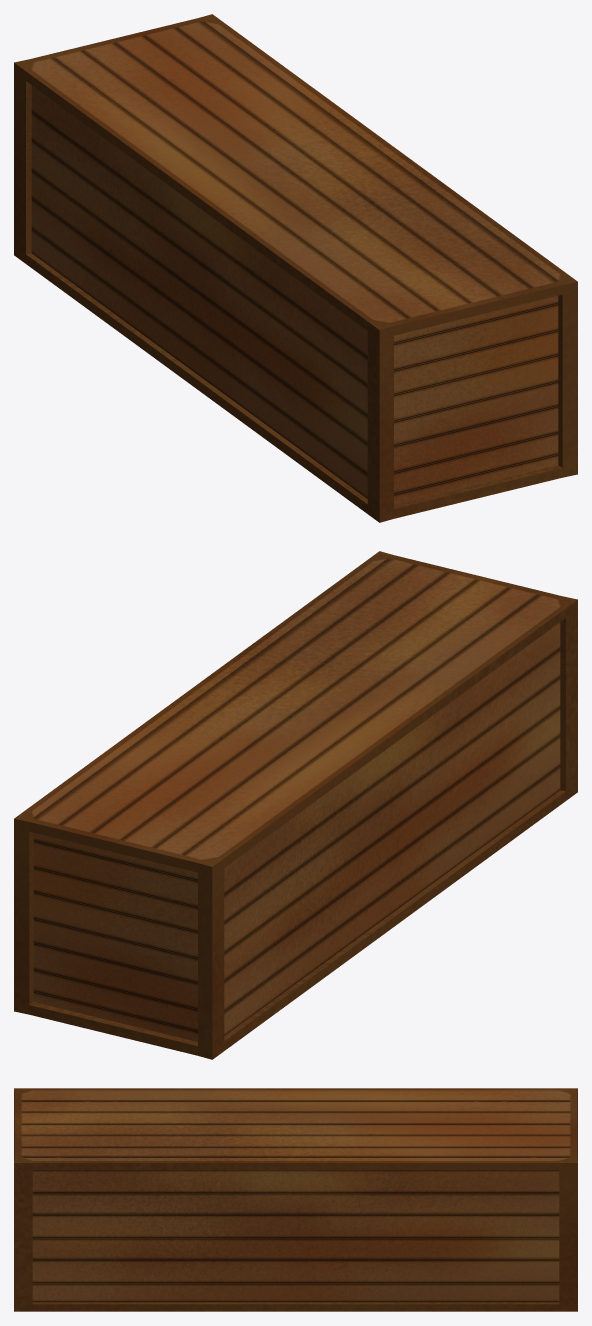
File: Shipping Container.fbx
3 views of the same model, one above another, from view 1: azimuth 30°, elevation 25°; view 2: azimuth 150°, elevation 25°; view 3: azimuth 270°, elevation 25° (orthographic). The views are drawn at different scales.
Parts seen in each view (by area): view 1: Door_Door_Door_Door_Door_Door_Door_Door_pCube10; view 2: Door_Door_Door_Door_Door_Door_Door_Door_pCube10; view 3: Door_Door_Door_Door_Door_Door_Door_Door_pCube10.
Boxes of the visible parts, x1,y1,x2,y2 form: Door_Door_Door_Door_Door_Door_Door_Door_pCube10: [14, 14, 577, 522]; Door_Door_Door_Door_Door_Door_Door_Door_pCube10: [14, 551, 577, 1059]; Door_Door_Door_Door_Door_Door_Door_Door_pCube10: [14, 1088, 577, 1311].
Bounding box in the file's own units: 374 × 347 × 1193.
